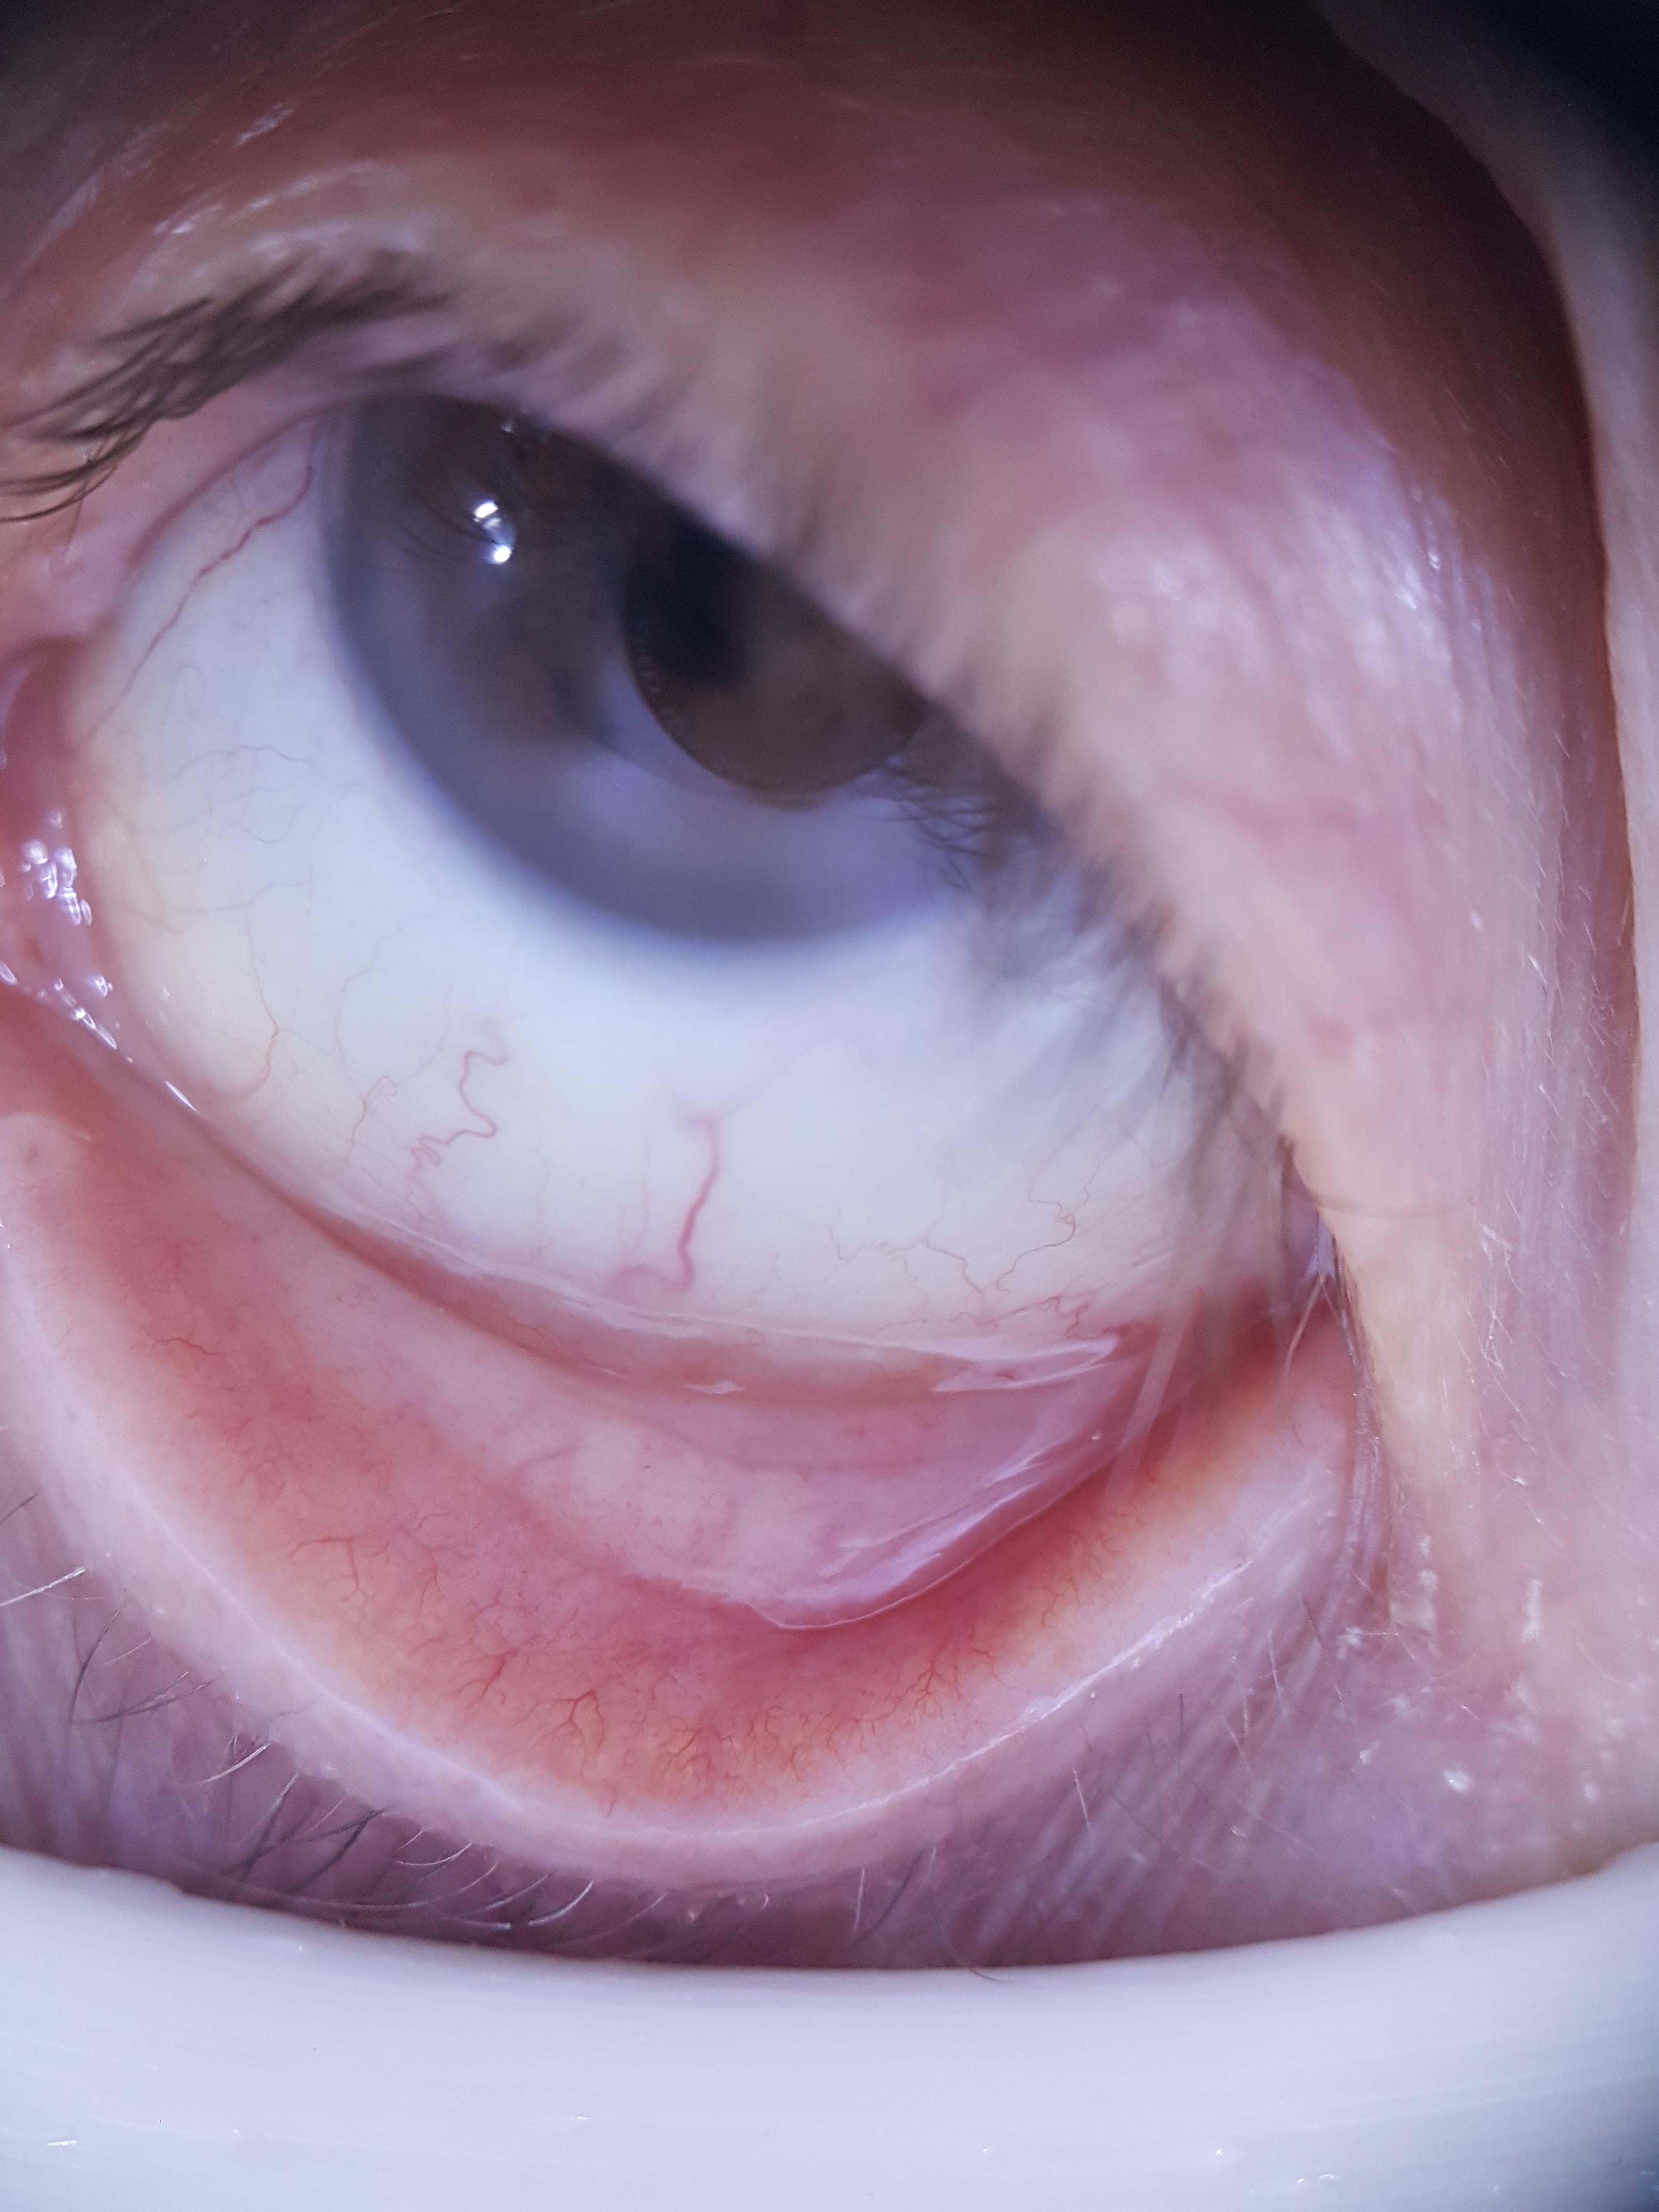forniceal: (84, 1043, 1183, 1622)
forniceal_palpebral: (84, 1022, 1227, 1787)
palpebral: (71, 1033, 1227, 1777)
